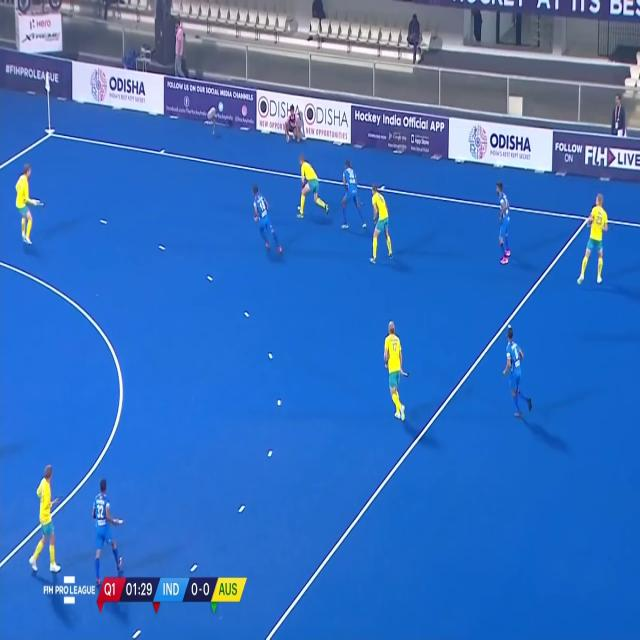ball: (296, 201, 302, 213)
